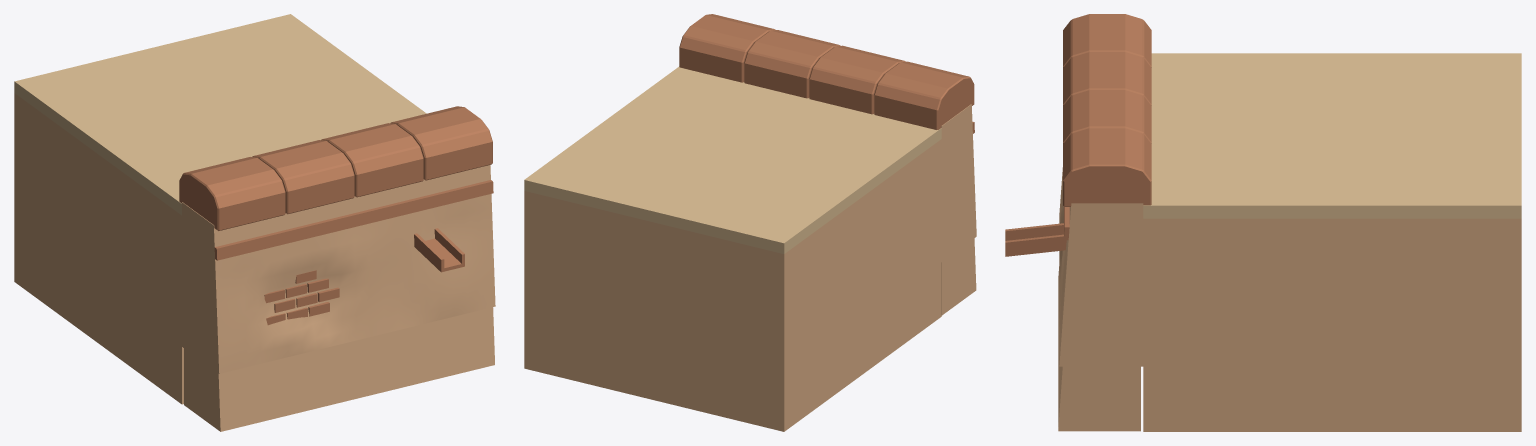
File: terrace_wall_straight.fbx
3 views of the same model, side by side, from view 1: azimuth 30°, elevation 25°; view 2: azimuth 150°, elevation 25°; view 3: azimuth 270°, elevation 25° (orthographic). The views are drawn at different scales.
Parts seen in each view (by area): view 1: Terrace_Wall_Straight; view 2: Terrace_Wall_Straight; view 3: Terrace_Wall_Straight.
Part boxes in pixels (<box>): Terrace_Wall_Straight: <box>14,14,495,431</box>; Terrace_Wall_Straight: <box>524,14,976,431</box>; Terrace_Wall_Straight: <box>1005,14,1521,431</box>.
Size of the model in its own units: 300 by 245 by 430.
